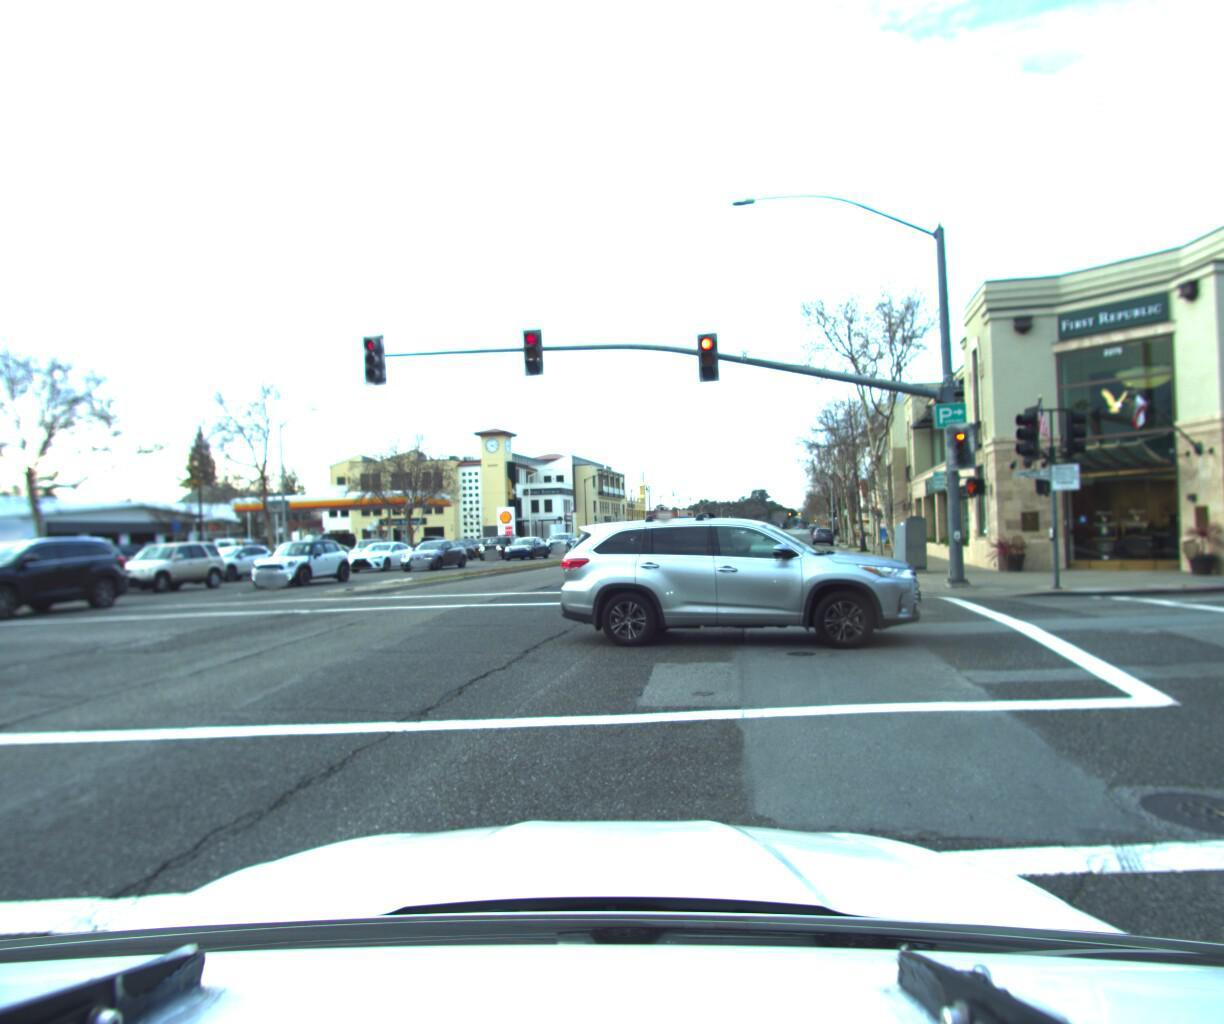car: (555, 496, 931, 645), (0, 536, 142, 631), (98, 539, 238, 596), (241, 537, 357, 591), (183, 544, 283, 584), (343, 539, 425, 575), (394, 536, 474, 570), (211, 539, 271, 571), (472, 534, 519, 561), (501, 536, 551, 560), (540, 528, 577, 550), (810, 524, 833, 545)
